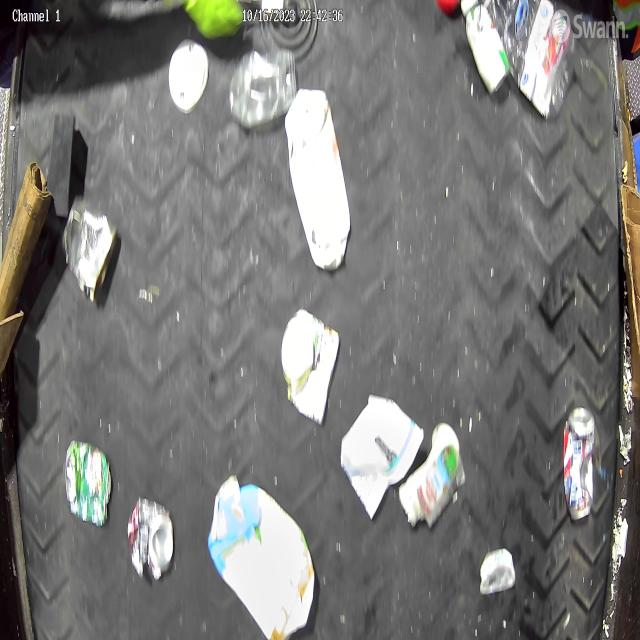can: (62, 194, 120, 298), (64, 438, 113, 528), (562, 406, 599, 525), (128, 496, 176, 584)
non_white_jug: (207, 474, 315, 640), (284, 87, 351, 268)
plastic_bottle: (482, 1, 574, 116)
